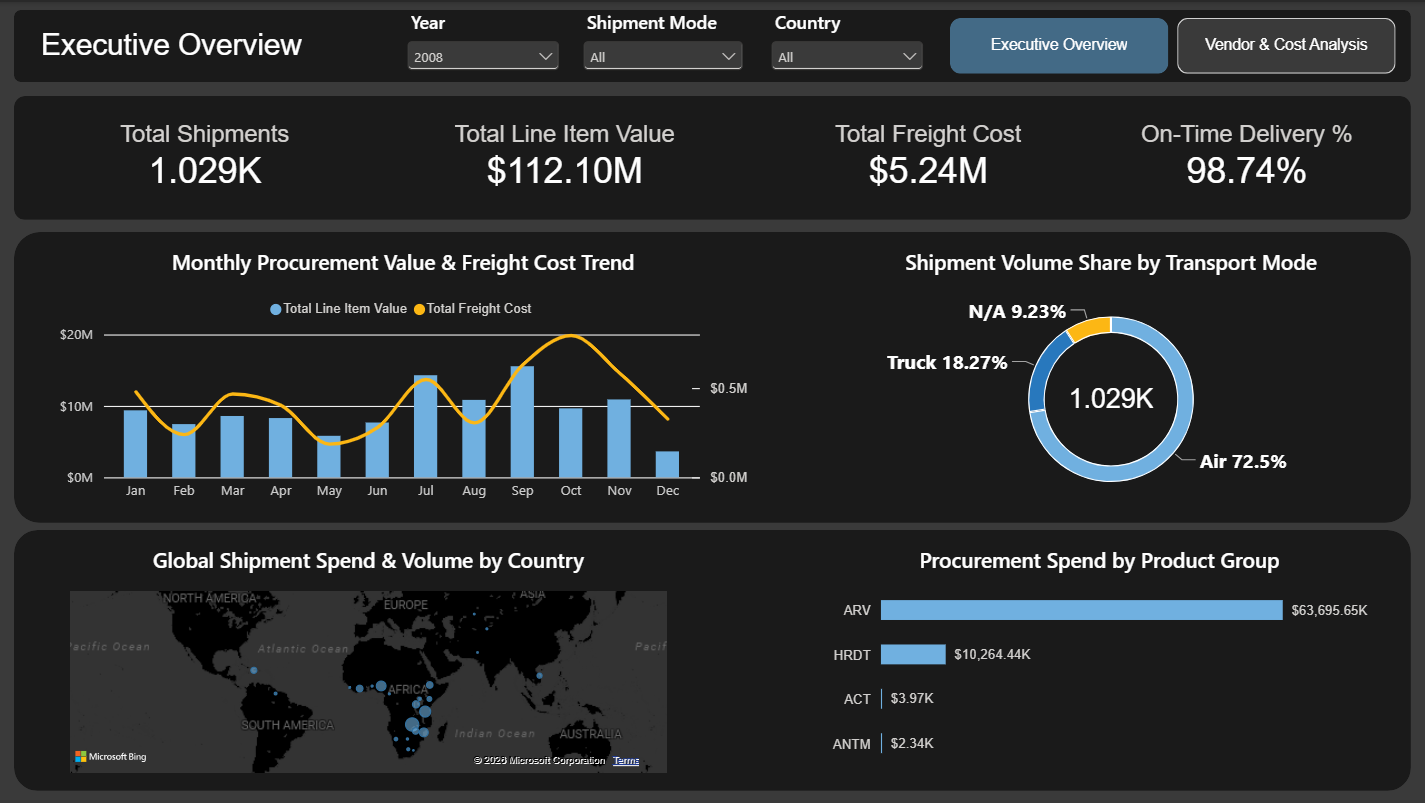

The page's visual inventory and layout, read from the dashboard file:
{"tool":"powerbi","page":{"name":"Executive Overview","canvas":[1280,720],"ordinal":0},"visuals":[{"type":"shape","box":[12.6,7.2,1254.2,64.6],"z":0},{"type":"shape","box":[12.6,84.4,1254.2,111.3],"z":1000},{"type":"shape","box":[12.6,206.5,1254.2,261.2],"z":2000},{"type":"shape","box":[12.6,474,1254.2,234.3],"z":3000},{"type":"cardVisual","fields":{"Data":["_Measures.Total Shipments"]},"box":[36.8,84.4,294.5,111.3],"z":6000},{"type":"cardVisual","fields":{"Data":["_Measures.On-Time Delivery %"]},"box":[980.3,84.4,278.3,111],"z":7000},{"type":"cardVisual","fields":{"Data":["_Measures.Total Freight Cost"]},"box":[686.8,84.4,293.6,111.3],"z":8000},{"type":"cardVisual","fields":{"Data":["_Measures.Total Line Item Value"]},"box":[365.4,84.4,283.7,111.3],"z":9000},{"type":"lineClusteredColumnComboChart","title":"Monthly Procurement Value & Freight Cost Trend","fields":{"Category":["Dim_Date.Month Short"],"Y":["_Measures.Total Line Item Value"],"Y2":["_Measures.Total Freight Cost"]},"box":[36.8,206.5,650,261.2],"z":10000},{"type":"donutChart","title":"Shipment Volume Share by Transport Mode","fields":{"Category":["Raw_Data.Shipment Mode"],"Y":["_Measures.Total Shipments"]},"box":[741.5,206.5,511.7,261.2],"z":11000},{"type":"clusteredBarChart","title":"Procurement Spend by Product Group","fields":{"Category":["Raw_Data.Product Group"],"Y":["_Measures.Total Line Item Value"]},"box":[729.9,474,514.4,234.3],"z":12000},{"type":"map","title":"Global Shipment Spend & Volume by Country","fields":{"Category":["Raw_Data.Country"],"Size":["_Measures.Total Line Item Value"]},"box":[46.7,474,568.3,234.3],"z":13000},{"type":"textbox","box":[36.8,7.2,816.1,64.6],"z":14000},{"type":"slicer","fields":{"Values":["Raw_Data.Country"]},"box":[687.7,7.2,146.3,64.6],"z":15000},{"type":"slicer","fields":{"Values":["Dim_Date.Year"]},"box":[360.9,7.2,146.3,64.6],"z":16000},{"type":"slicer","fields":{"Values":["Raw_Data.Shipment Mode"]},"box":[518.9,7.2,152.6,64.6],"z":17000},{"type":"pageNavigator","box":[852.9,14.4,400,50],"z":17001}]}

Visuals, with their boxes in screenshot pixels (x1, y1, x2, y2), scaled from the page's 1280x720 canvas onto the 1425x803 screenshot:
shape: box=[14, 8, 1410, 80]
shape: box=[14, 94, 1410, 218]
shape: box=[14, 230, 1410, 522]
shape: box=[14, 529, 1410, 790]
cardVisual - _Measures.Total Shipments: box=[41, 94, 369, 218]
cardVisual - _Measures.On-Time Delivery %: box=[1091, 94, 1401, 218]
cardVisual - _Measures.Total Freight Cost: box=[765, 94, 1091, 218]
cardVisual - _Measures.Total Line Item Value: box=[407, 94, 723, 218]
"Monthly Procurement Value & Freight Cost Trend" lineClusteredColumnComboChart: box=[41, 230, 765, 522]
"Shipment Volume Share by Transport Mode" donutChart: box=[825, 230, 1395, 522]
"Procurement Spend by Product Group" clusteredBarChart: box=[813, 529, 1385, 790]
"Global Shipment Spend & Volume by Country" map: box=[52, 529, 685, 790]
textbox: box=[41, 8, 950, 80]
slicer - Raw_Data.Country: box=[766, 8, 928, 80]
slicer - Dim_Date.Year: box=[402, 8, 565, 80]
slicer - Raw_Data.Shipment Mode: box=[578, 8, 748, 80]
pageNavigator: box=[950, 16, 1395, 72]
